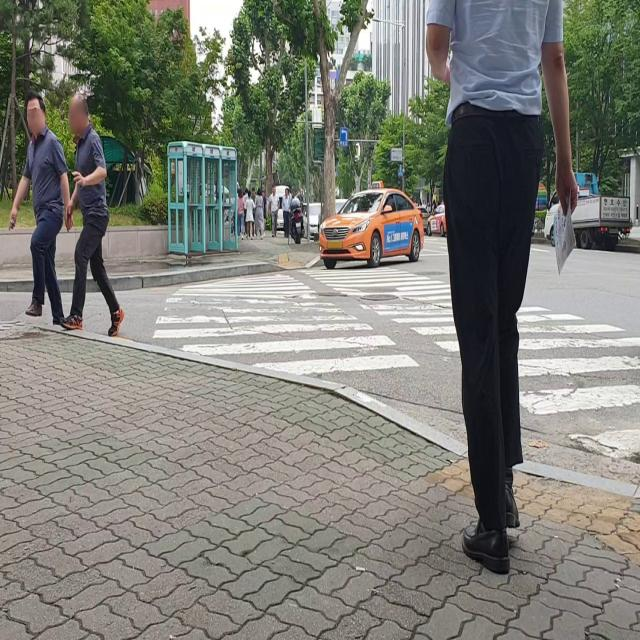횡단보도: (150, 264, 638, 466)
